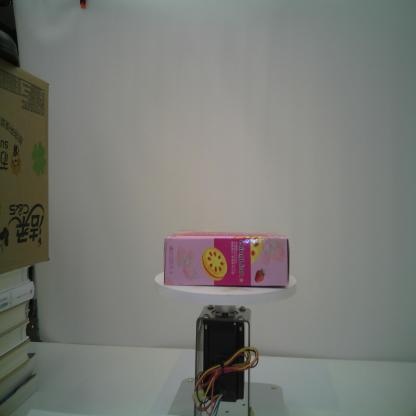Dessert: (164, 228, 290, 289)
